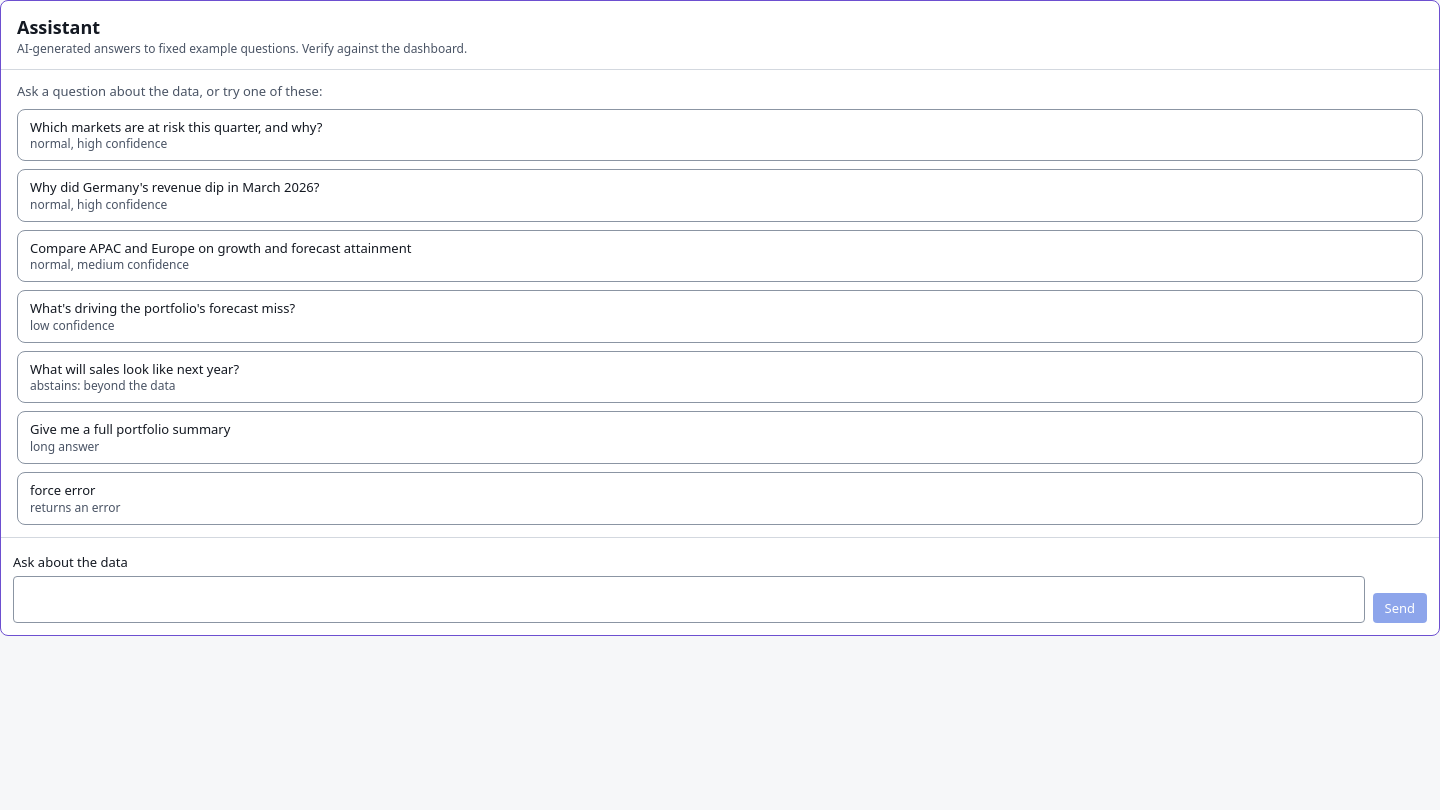
Scenario: trust surface › high confidence shows text and an explanation
Type "germany" into the text box labelled "Ask about the data" at (689,600), box [13,576,1364,623]
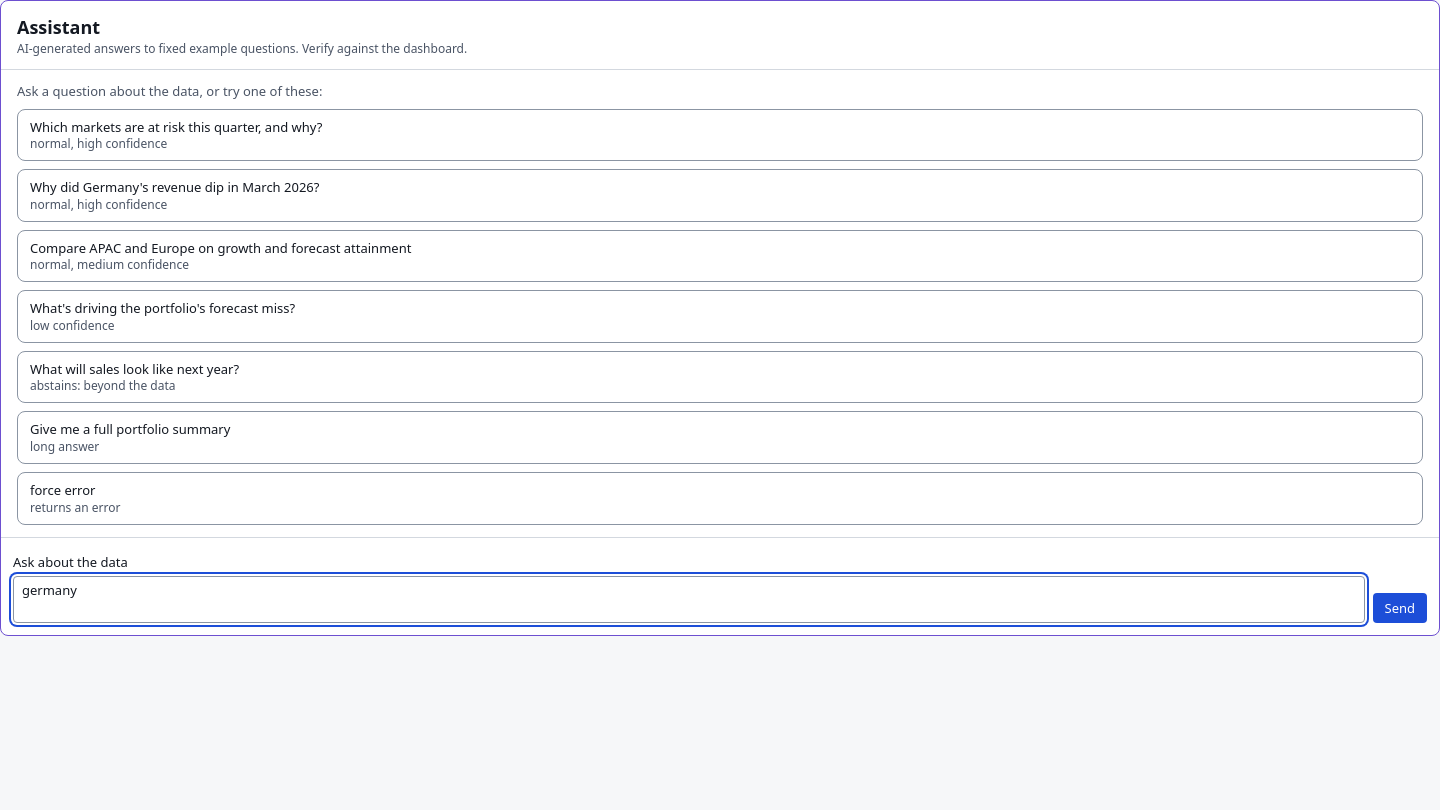
Click the button "Send" at (1400,608), box [1372,593,1427,623]
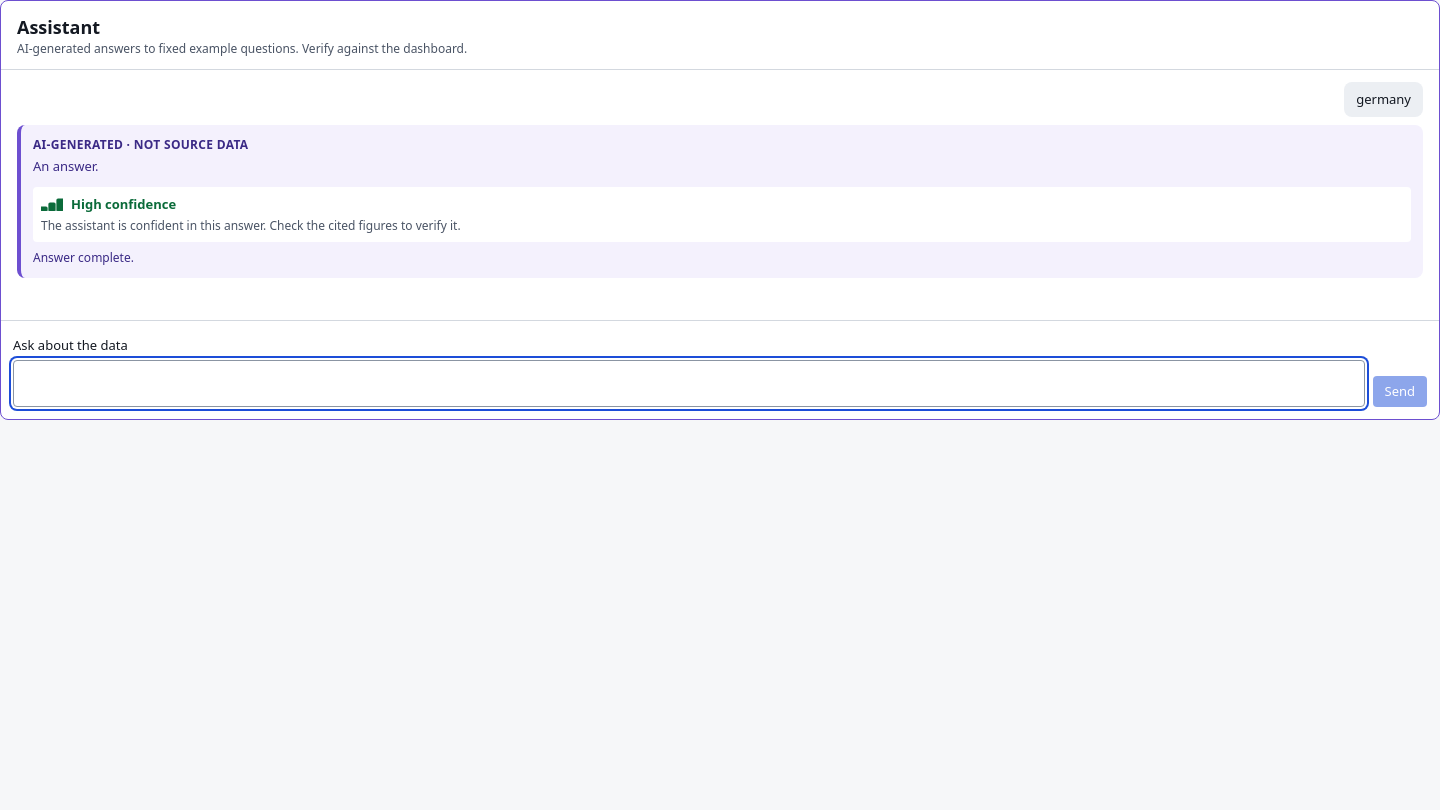
Expected: the element with test id "trust-notice" shows "High confidence", [71,195,176,213]
Expected: the element with test id "trust-notice" shows "confident in this answer", [41,217,461,234]
